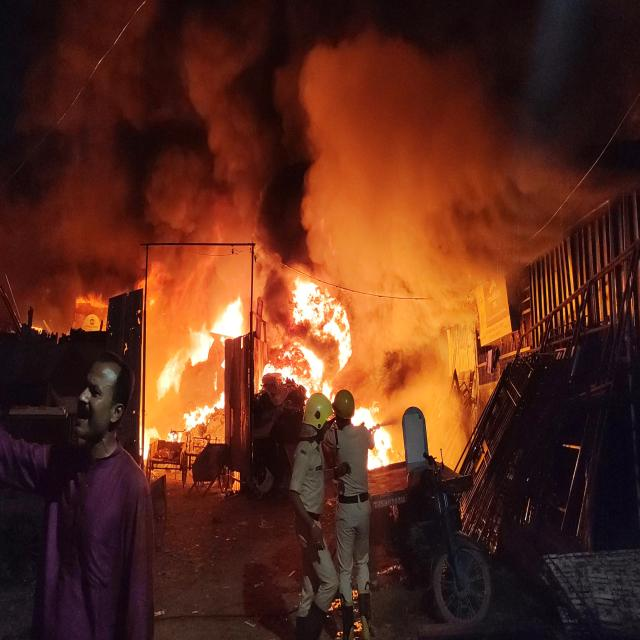fire: (294, 276, 352, 369), (292, 342, 325, 393), (184, 391, 224, 431), (212, 296, 244, 338)
